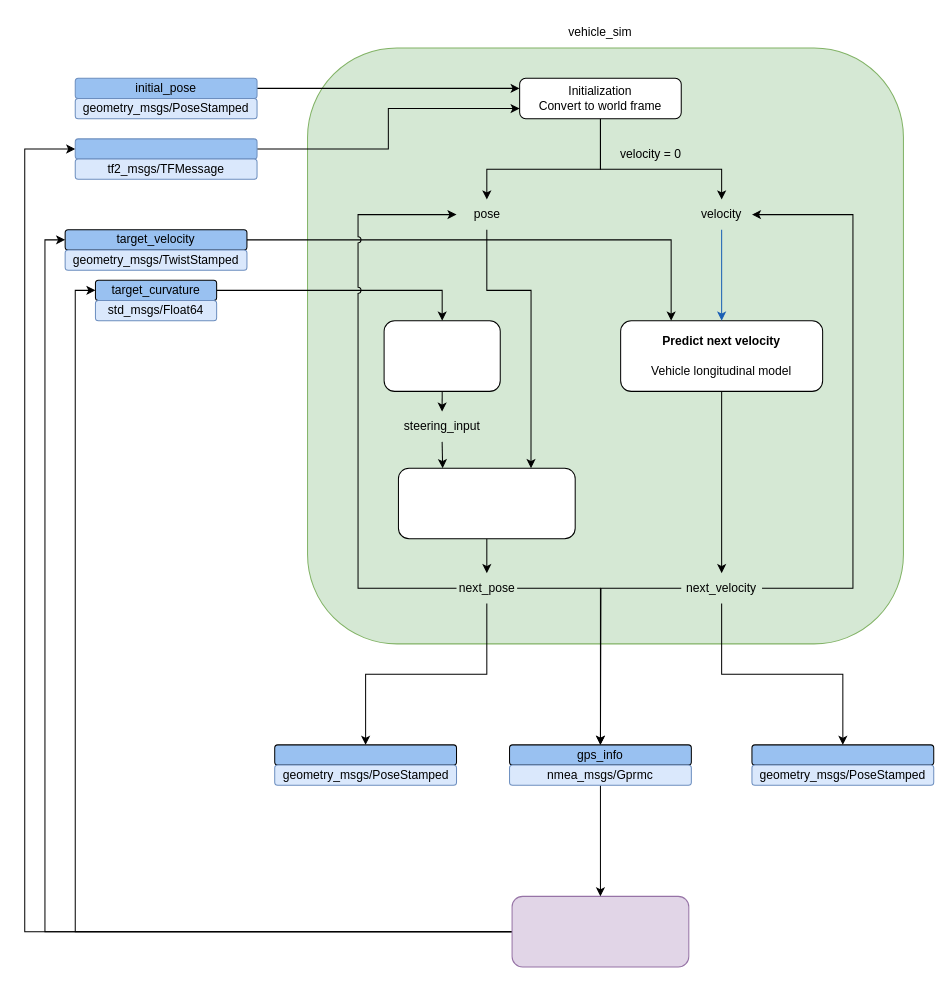
The diagram is 951 pixels wide and 985 high, and some of its shapes have lost their labels. Here are the shapes that lost their labels. From the top down, the centre of each, then its label:
At point 165,148: "tf".
At point 441,355: "Compute desired steering angle Bicycle model".
At point 486,503: "Predict next pose Vehicle lateral model kinematic bicycle model".
At point 365,754: "current_pose_sim".
At point 842,754: "current_velocity_sim".
At point 600,931: "Software stack".
